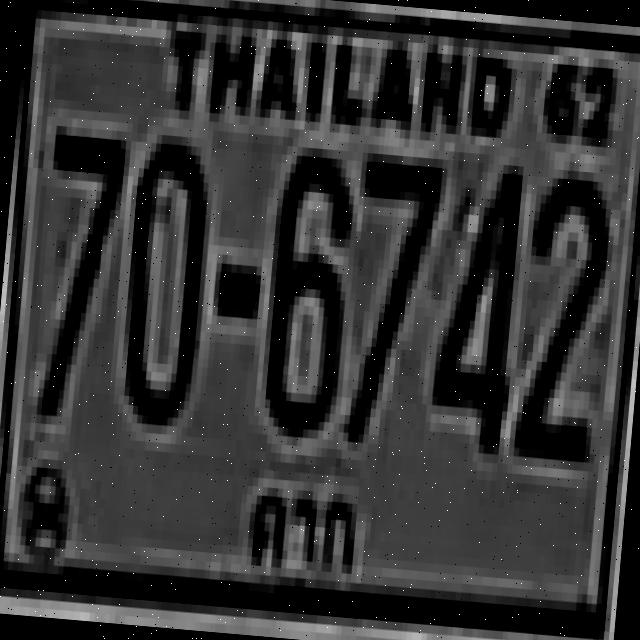0: (112, 124, 212, 418)
2: (509, 168, 609, 454)
4: (424, 151, 524, 446)
6: (258, 145, 352, 431)
7: (341, 144, 441, 438), (29, 125, 124, 411)
Tak: (234, 473, 365, 584)
